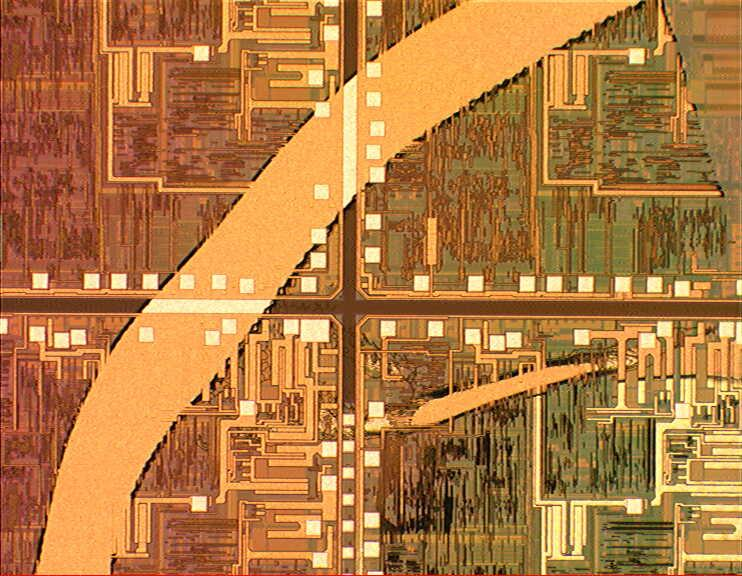COATING BAD: (34, 1, 742, 576)
